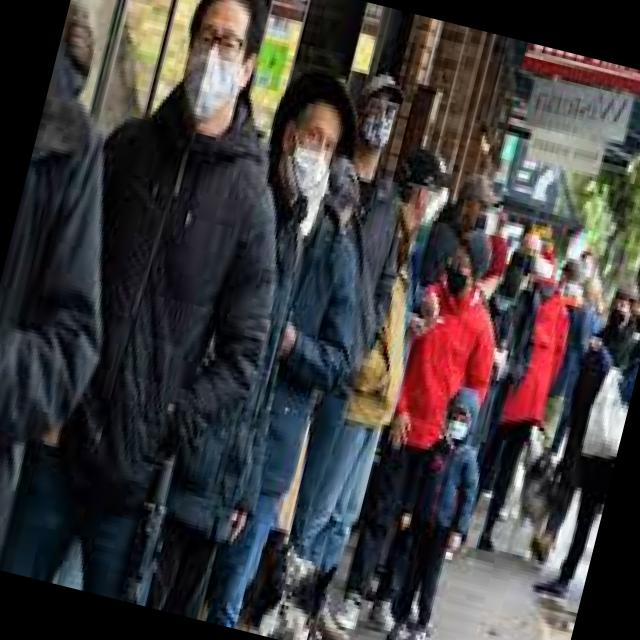Jacket: (13, 76, 310, 526), (0, 74, 165, 531), (210, 166, 390, 504), (296, 203, 442, 463), (380, 268, 516, 487), (483, 264, 588, 443)
